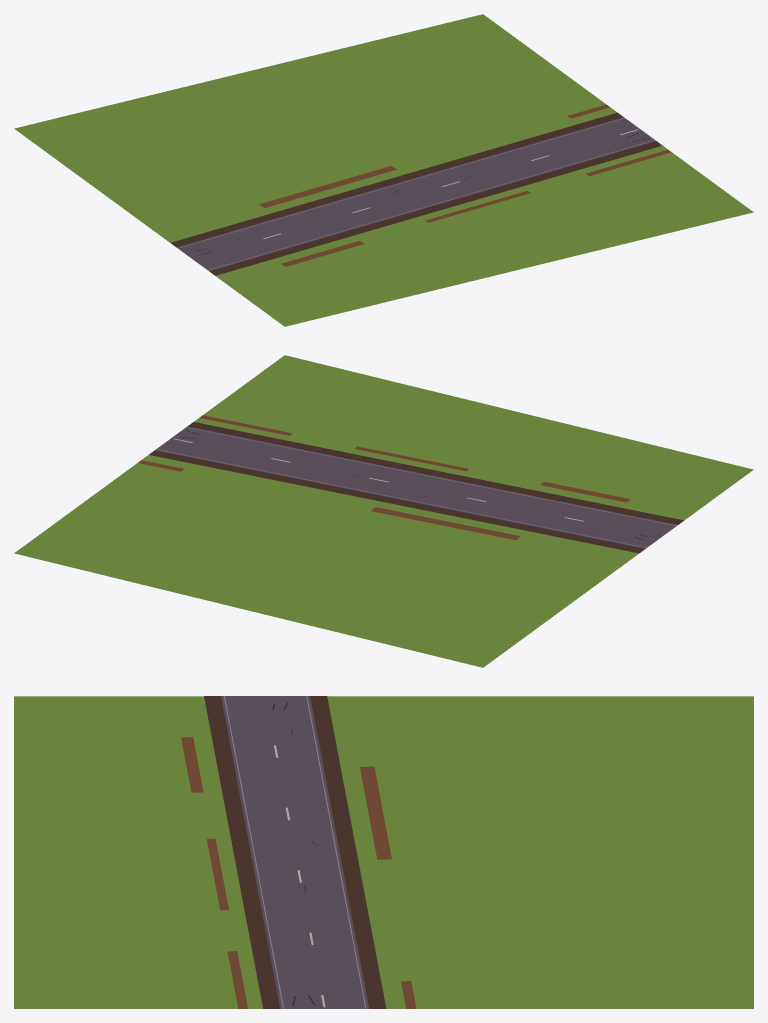
Rendered from crossing-3-0.glb.
3 views of the same model, one above another, from view 1: azimuth 30°, elevation 25°; view 2: azimuth 150°, elevation 25°; view 3: azimuth 270°, elevation 25° (orthographic). The views are drawn at different scales.
Parts seen in each view (by area): view 1: crossing-3-0; view 2: crossing-3-0; view 3: crossing-3-0.
Part boxes in pixels (x1,y1,x2,y2): crossing-3-0: (14,14,753,326); crossing-3-0: (14,355,753,667); crossing-3-0: (14,696,753,1008).
Bounding box in the file's own units: 100 × 0.0145 × 100.
